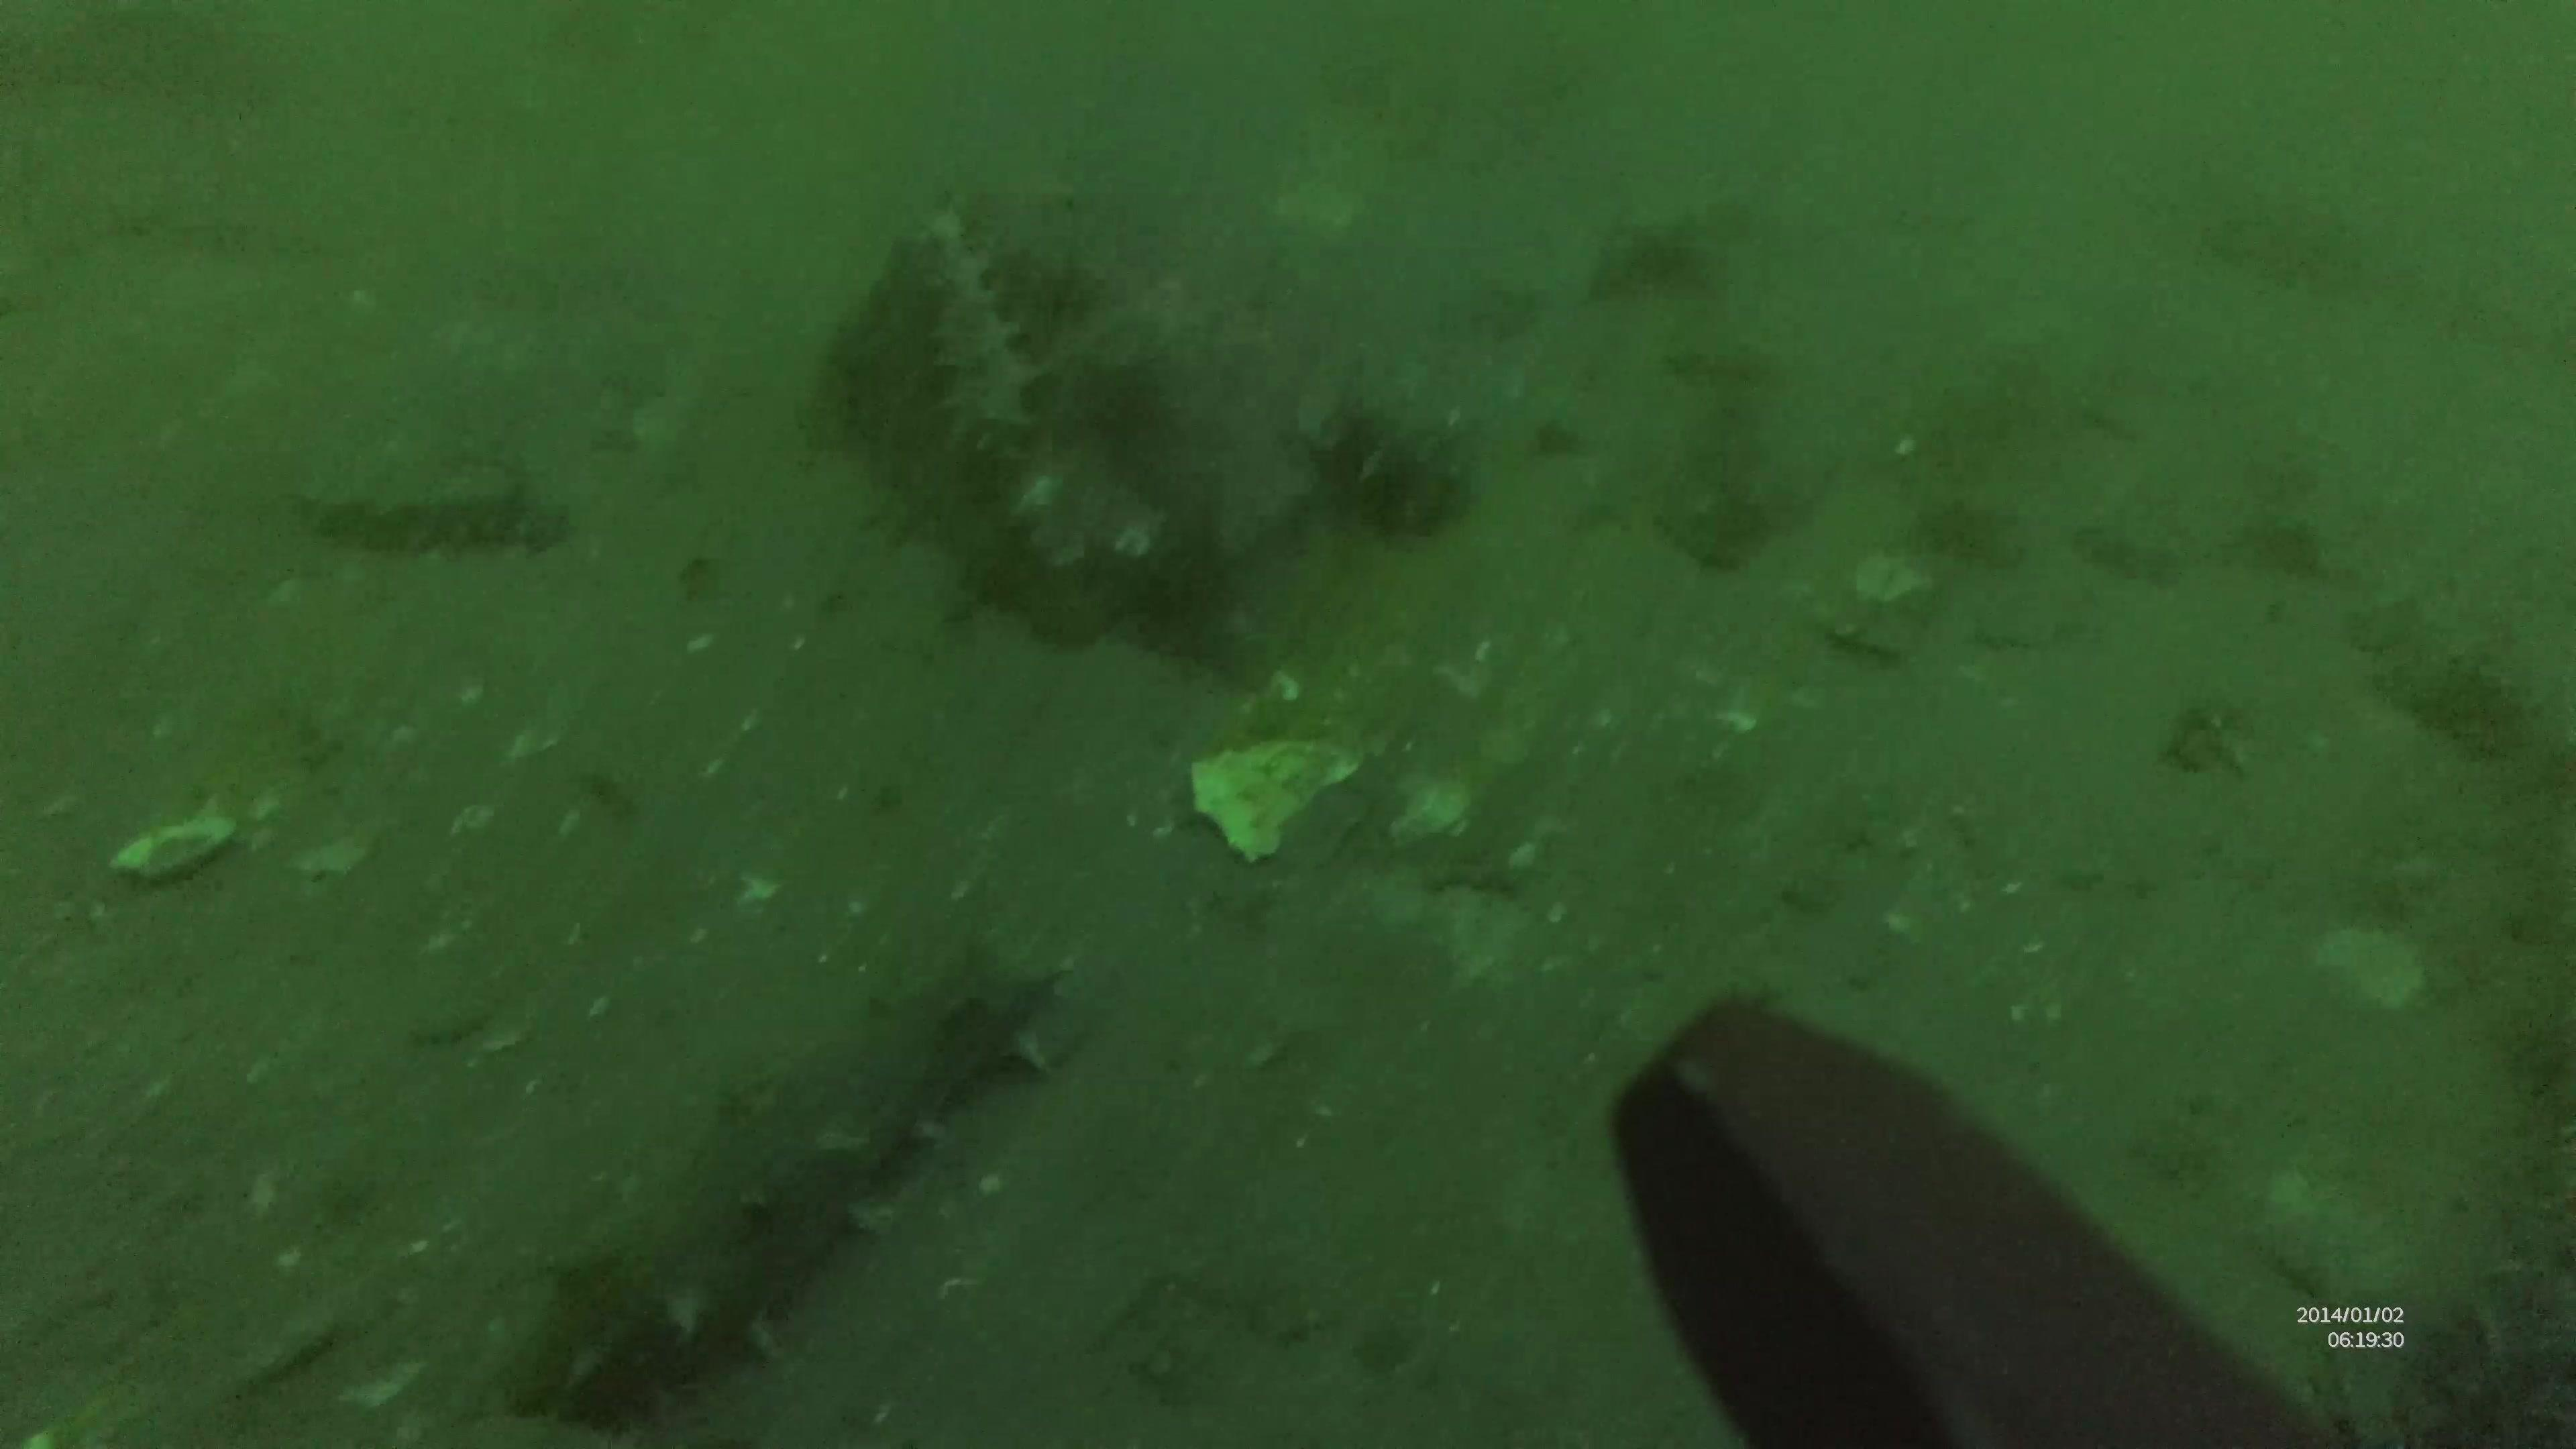holothurian: (517, 950, 1065, 1414), (911, 212, 1042, 472), (292, 455, 566, 568)
